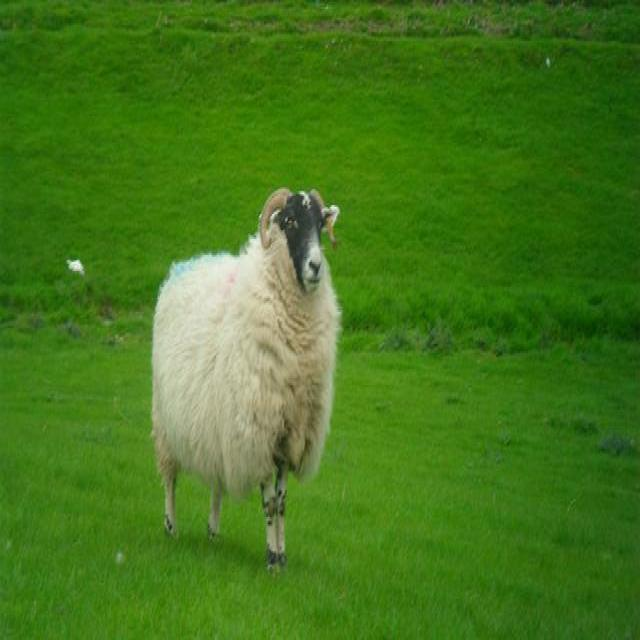Sheep: (153, 189, 340, 569)
